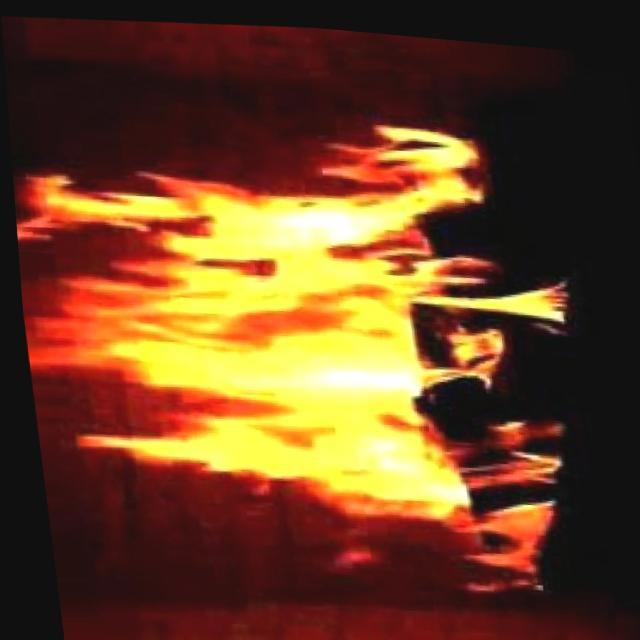Fire: (4, 66, 610, 627)
